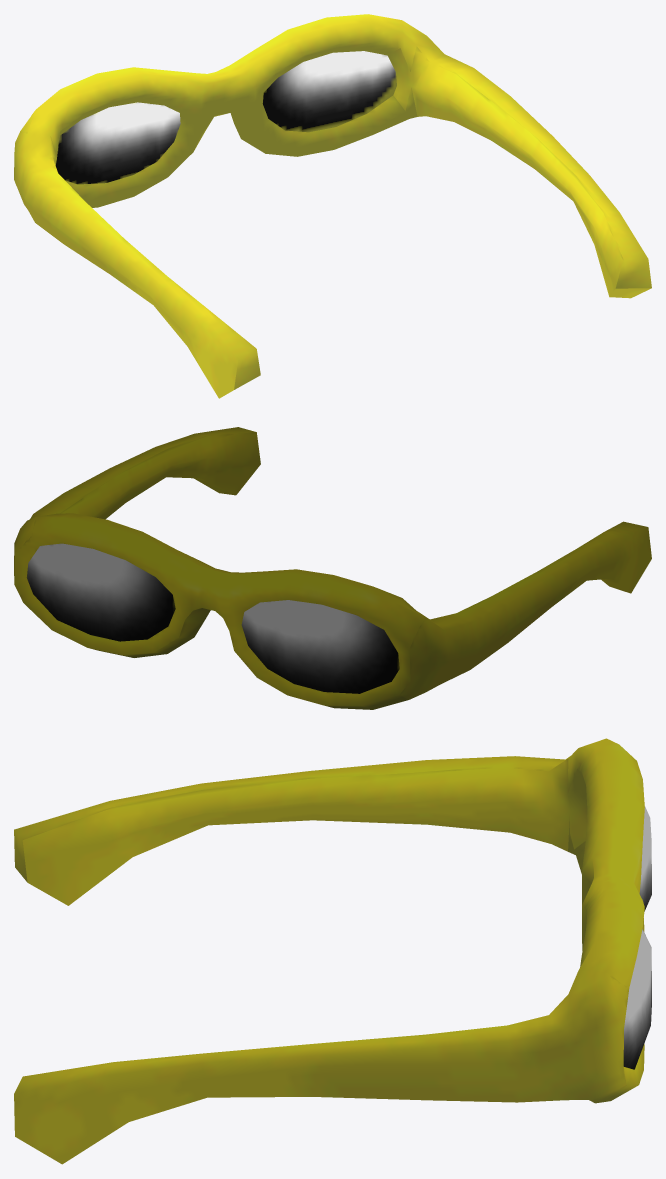
The model's file is icon.ico.obj.
3 renders of one model, top to bottom at view 1: azimuth 30°, elevation 25°; view 2: azimuth 150°, elevation 25°; view 3: azimuth 270°, elevation 25°, orthographic. The views are drawn at different scales.
Size of the model in its own units: 3 by 0.9126 by 2.72.
1 material, 1 textured.
